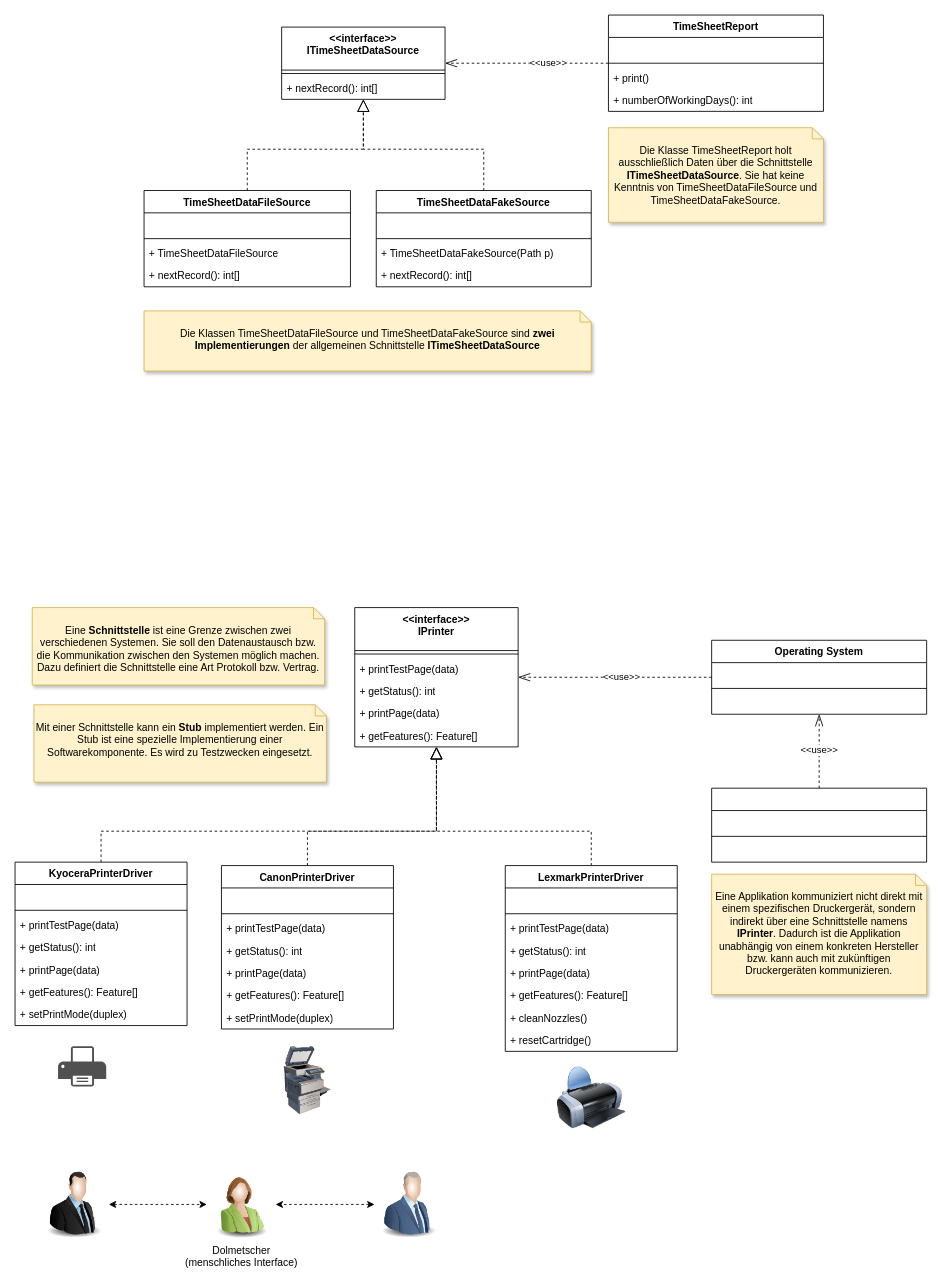
Image size: 947x1285. Some labels were removed from this diagram. The centre of each missing label's shape, as x and y in pixels:
Application: the point at 819,824
Kyocera: the point at 82,1066
Laserdrucker Canon: the point at 307,1080
Politiker (Deutschland): the point at 74,1204
Politiker (Ukraine): the point at 408,1204
Tintenstrahldrucker Lexmark: the point at 590,1097
